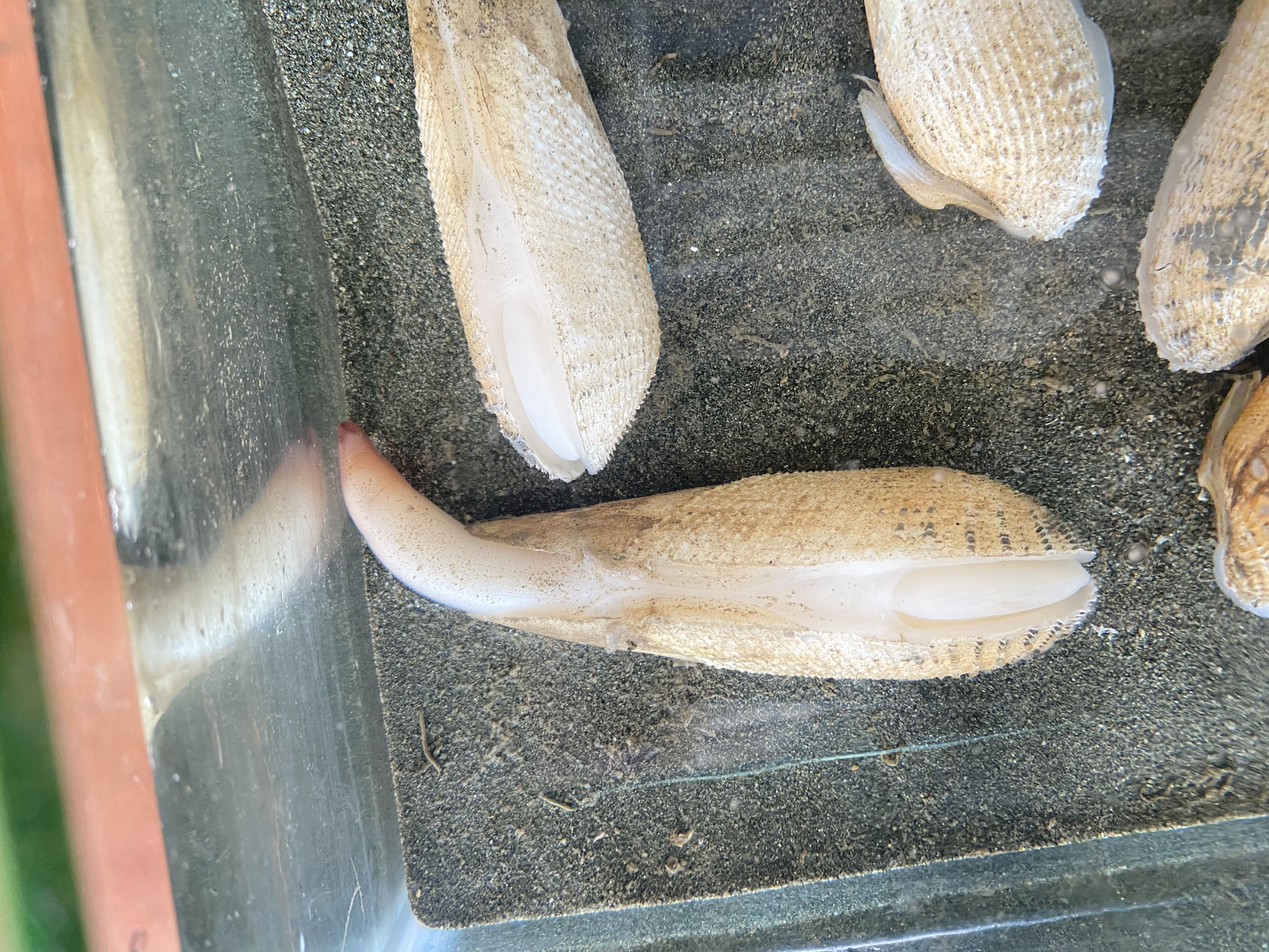Healthy: (339, 426, 1095, 677)
